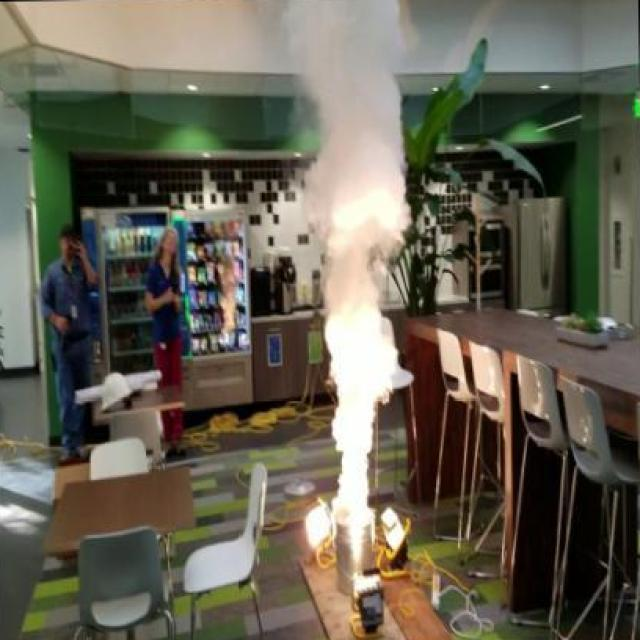fire: (282, 0, 416, 527)
